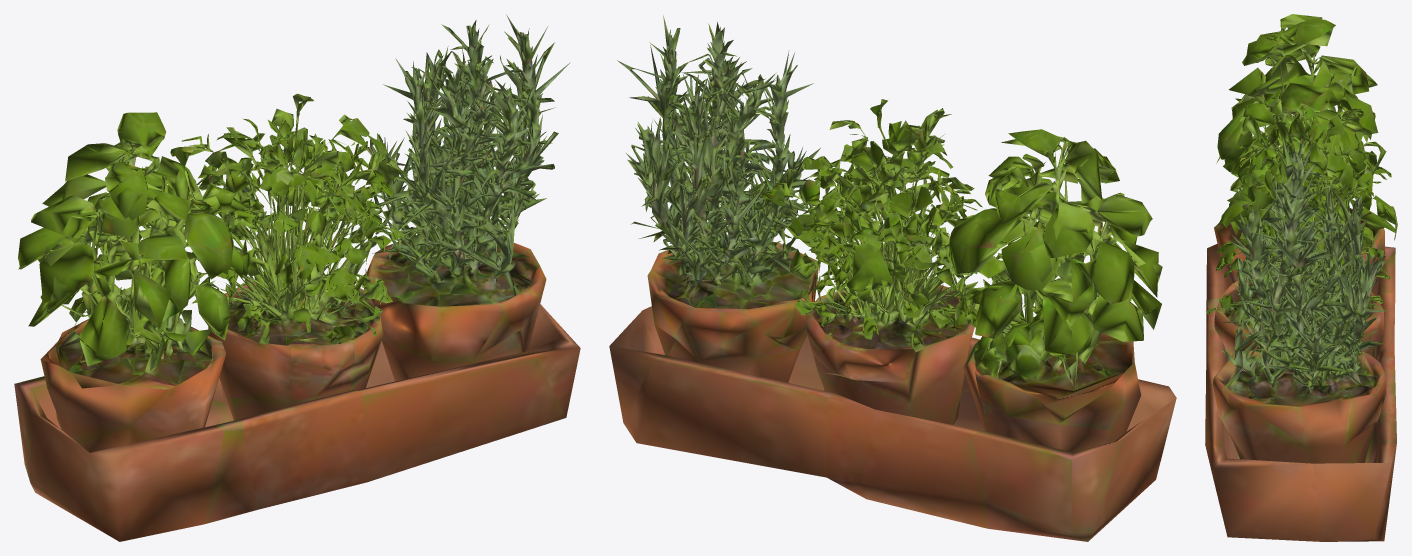
File: mobile.glb
3 views of the same model, side by side, from view 1: azimuth 30°, elevation 25°; view 2: azimuth 150°, elevation 25°; view 3: azimuth 270°, elevation 25° (orthographic). The views are drawn at different scales.
Visible parts, largest first — view 1: d-herbpots; view 2: d-herbpots; view 3: d-herbpots.
Boxes of the visible parts, x1=… form: d-herbpots: x1=14, y1=14, x2=580, y2=541; d-herbpots: x1=609, y1=15, x2=1176, y2=541; d-herbpots: x1=1205, y1=14, x2=1397, y2=541.
Size of the model in its own units: 0.485 by 0.3523 by 0.1626.
Materials: 1 (1 with a texture image).
